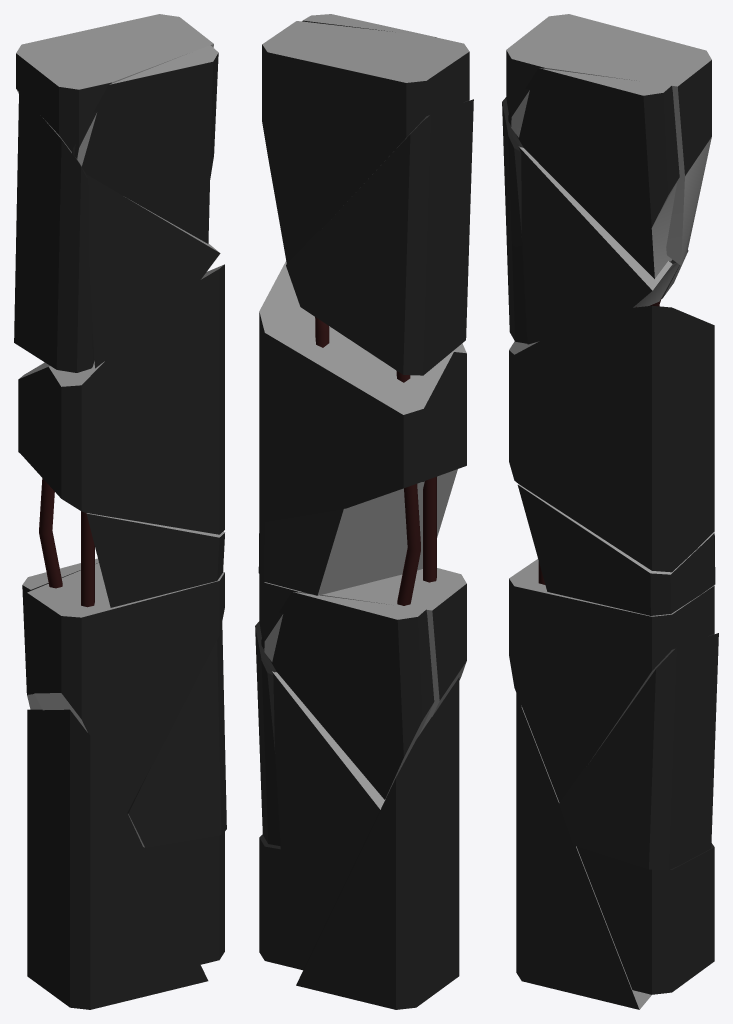
File: P_PoutreCasséQuiTien.FBX
3 renders of one model, left to right at view 1: azimuth 30°, elevation 25°; view 2: azimuth 150°, elevation 25°; view 3: azimuth 330°, elevation 25°, orthographic.
Parts seen in each view (by area): view 1: Box009_Part_011; view 2: Box009_Part_011; view 3: Box009_Part_011.
Boxes of the visible parts, x1,y1,x2,y2 form: Box009_Part_011: (14, 14, 226, 1009); Box009_Part_011: (255, 14, 473, 1009); Box009_Part_011: (502, 14, 718, 1009).
Bounding box in the file's own units: 61.65 × 324 × 40.08.
